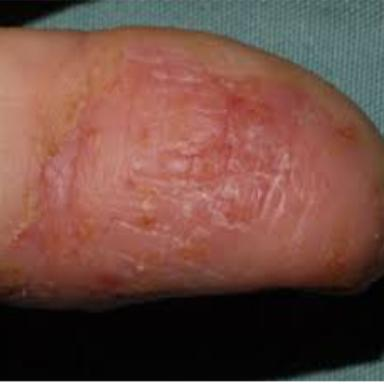eczema: (12, 51, 320, 295)
